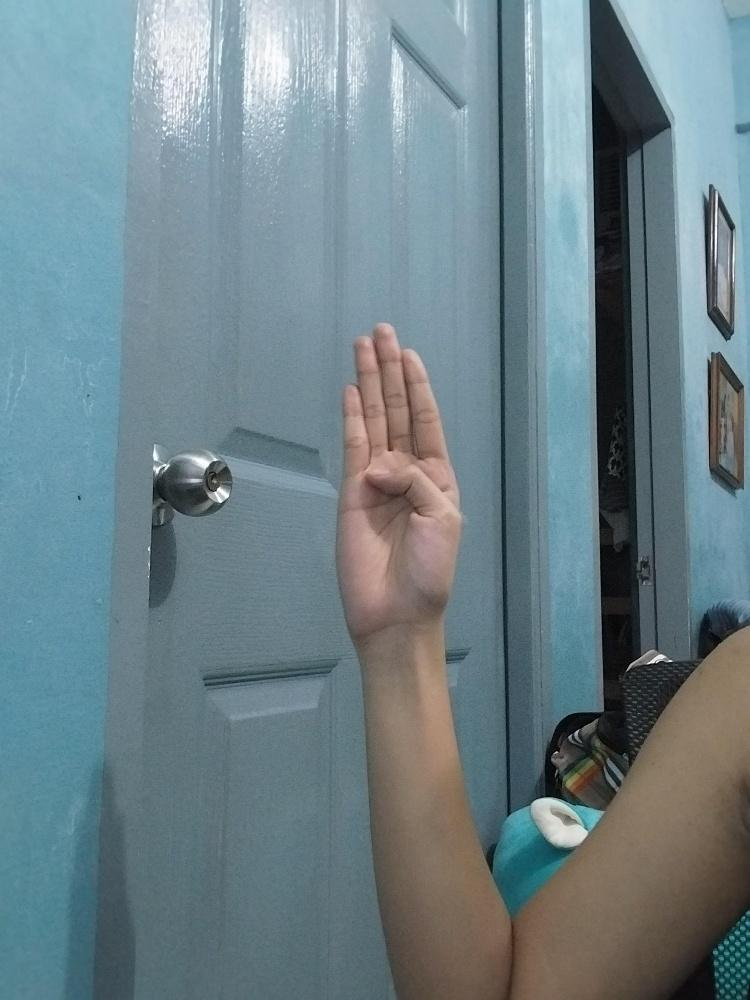b: (334, 317, 458, 625)
